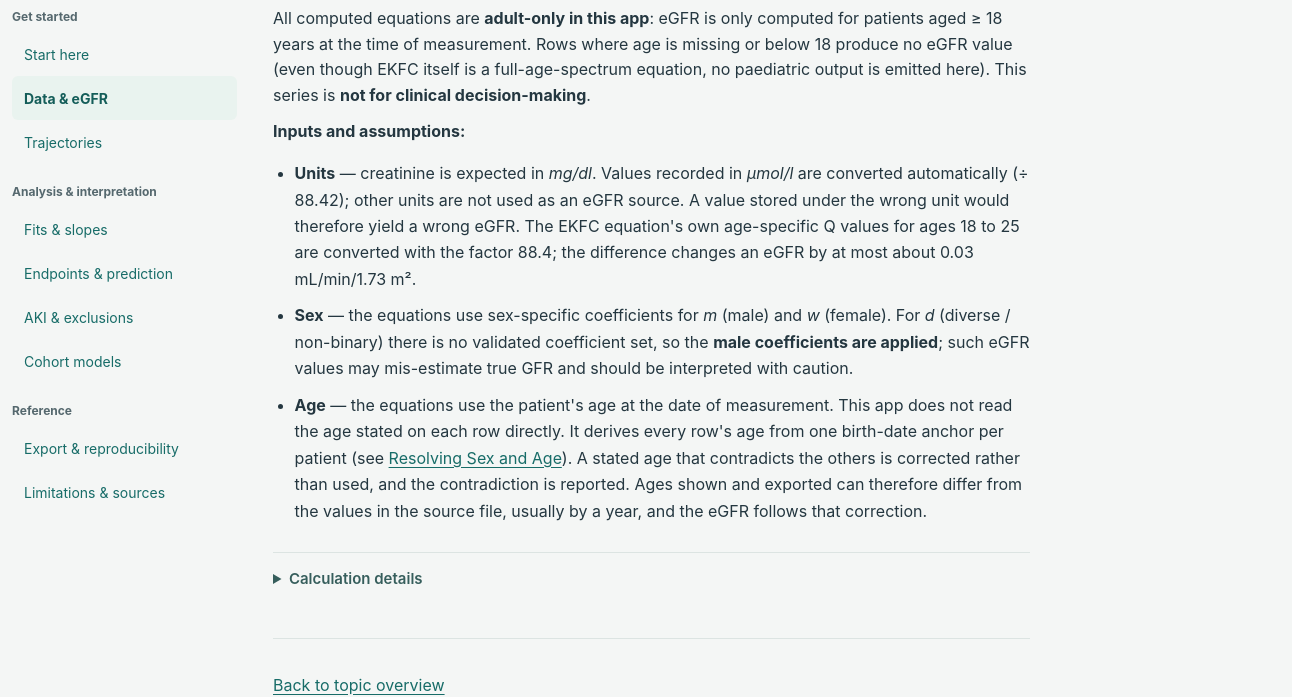
help topics › keeps important limitations outside closed calculation details
(page scrolled)
Expected: the text "All computed equations are" is shown, left=273, top=8, right=484, bottom=28
Click the heading "Calculation details": (356, 578) left=289, top=569, right=423, bottom=588
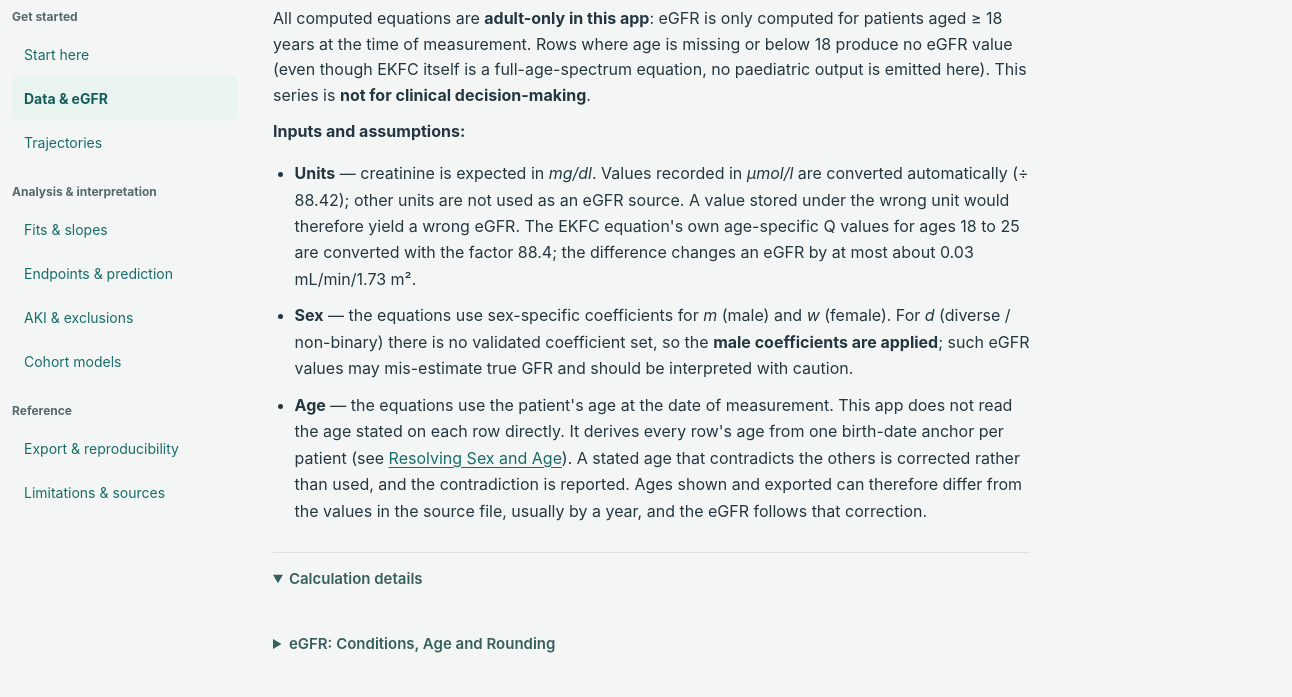
Click the heading "eGFR: Conditions, Age and Rounding": (422, 643) left=289, top=634, right=555, bottom=653
(page scrolled)
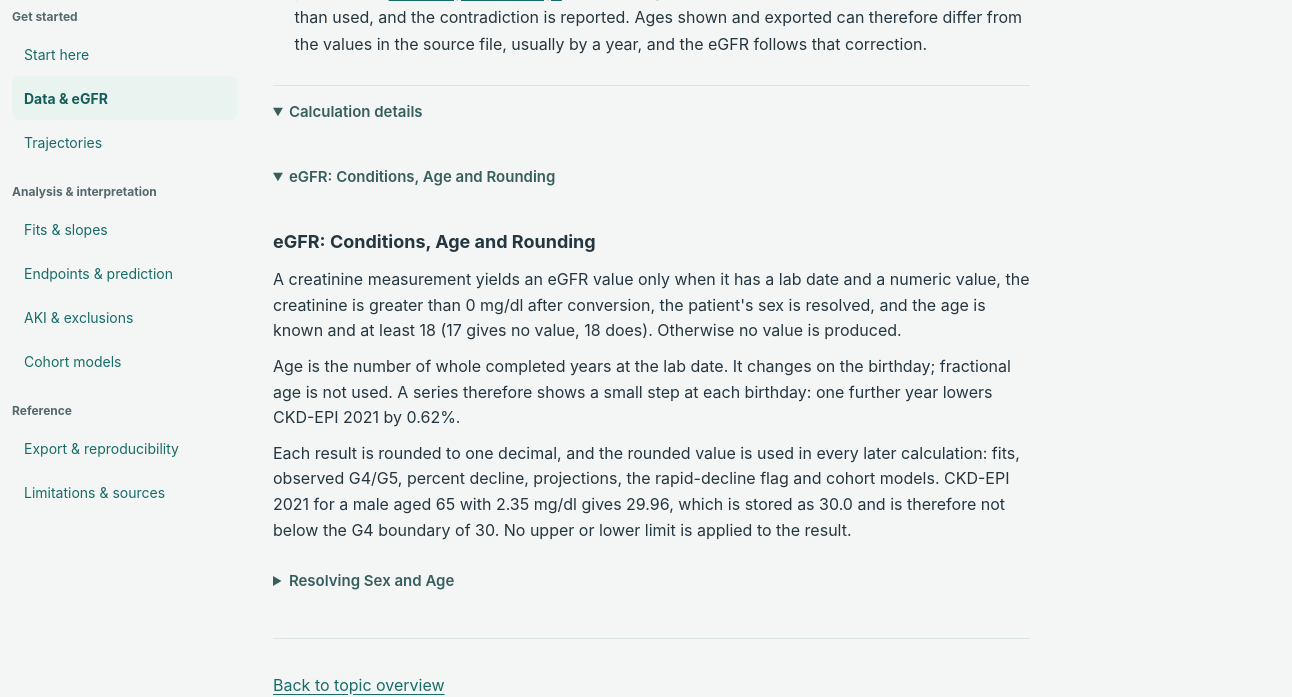
Now the text "gives 29.96, which is stored as 30.0" is shown, box left=273, top=443, right=1020, bottom=540
